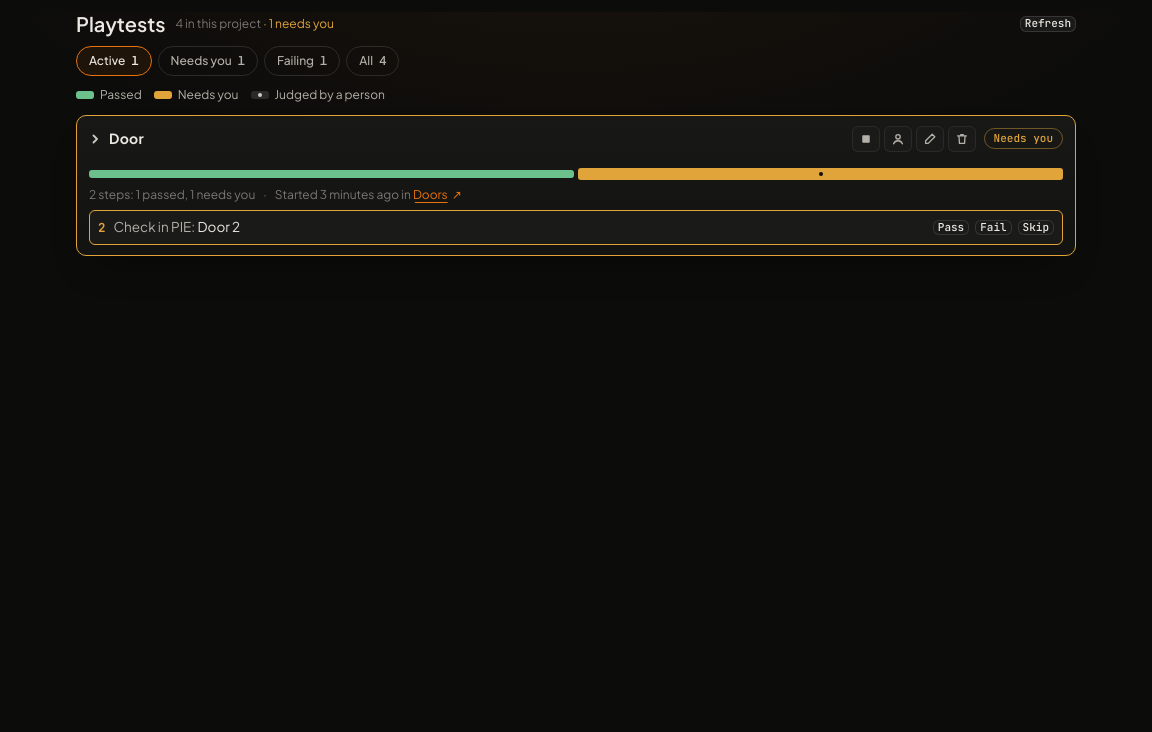
Test: the Playtests page › opens the full card in place from a step's bar
Click the button "All 4" at coordinates (373, 61), box [346,46,399,76]
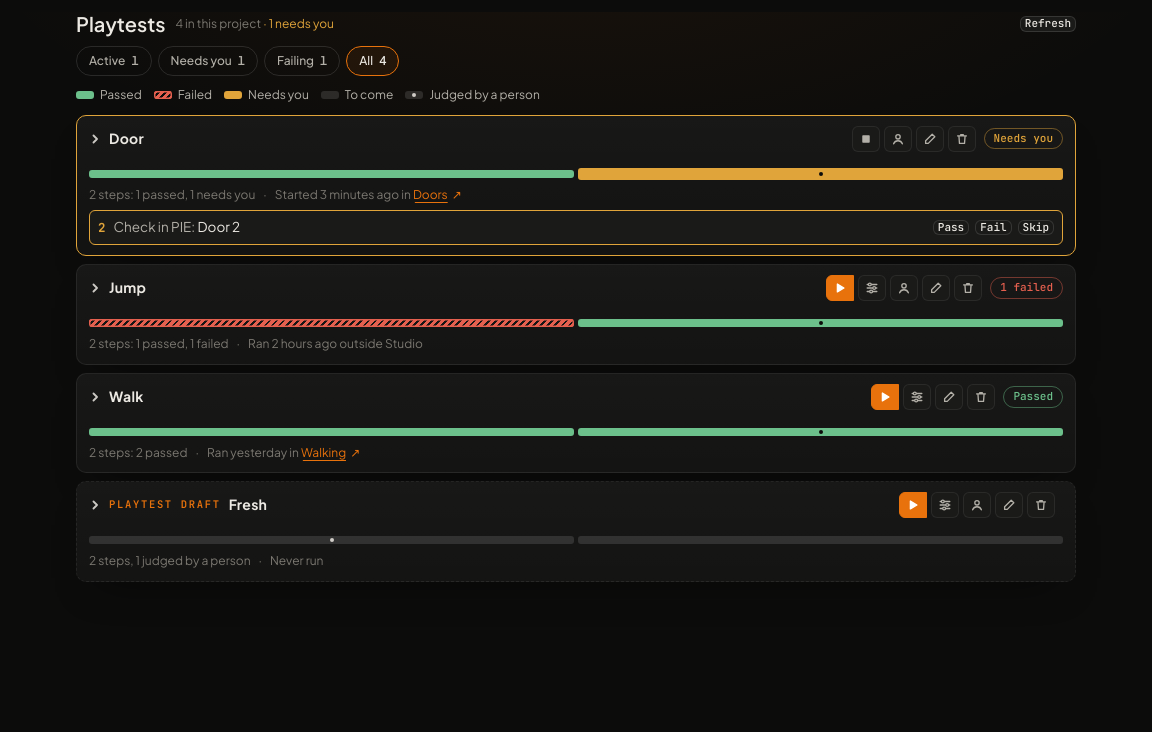
Click the button named "Step 1, observer, Failed" at coordinates (332, 319), box [89,307,574,331]
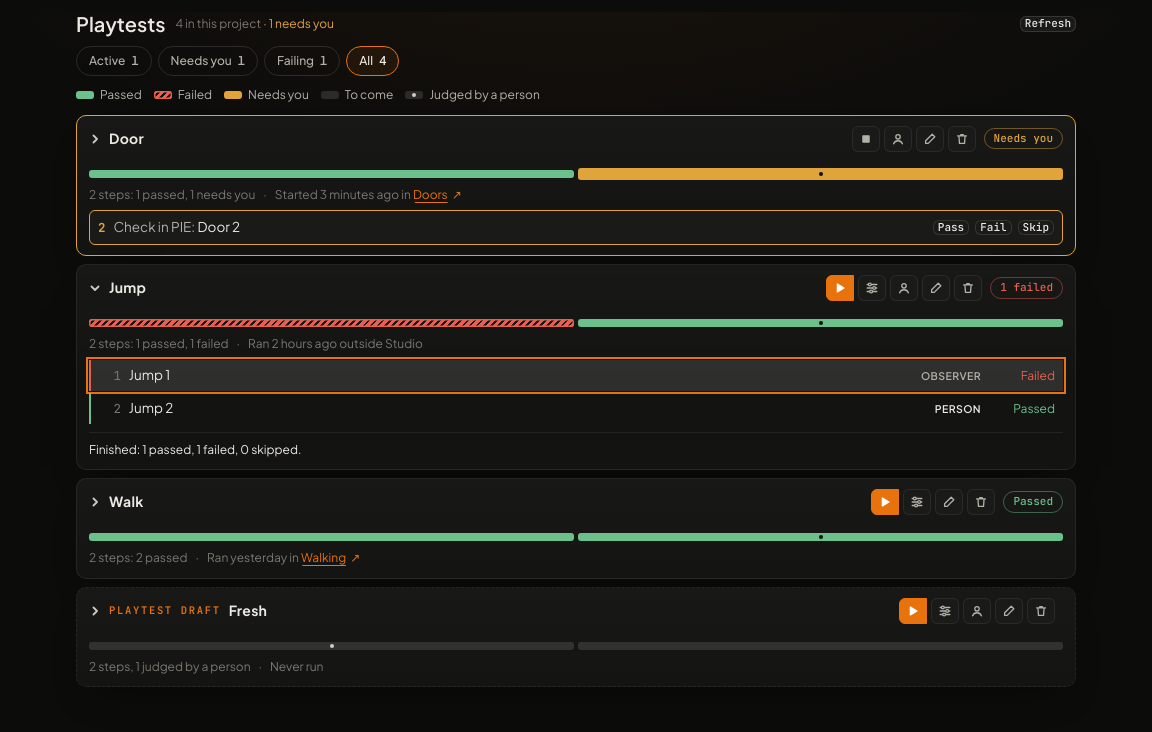
Expected: the text "Jump 1" is shown, [129,366,170,383]
